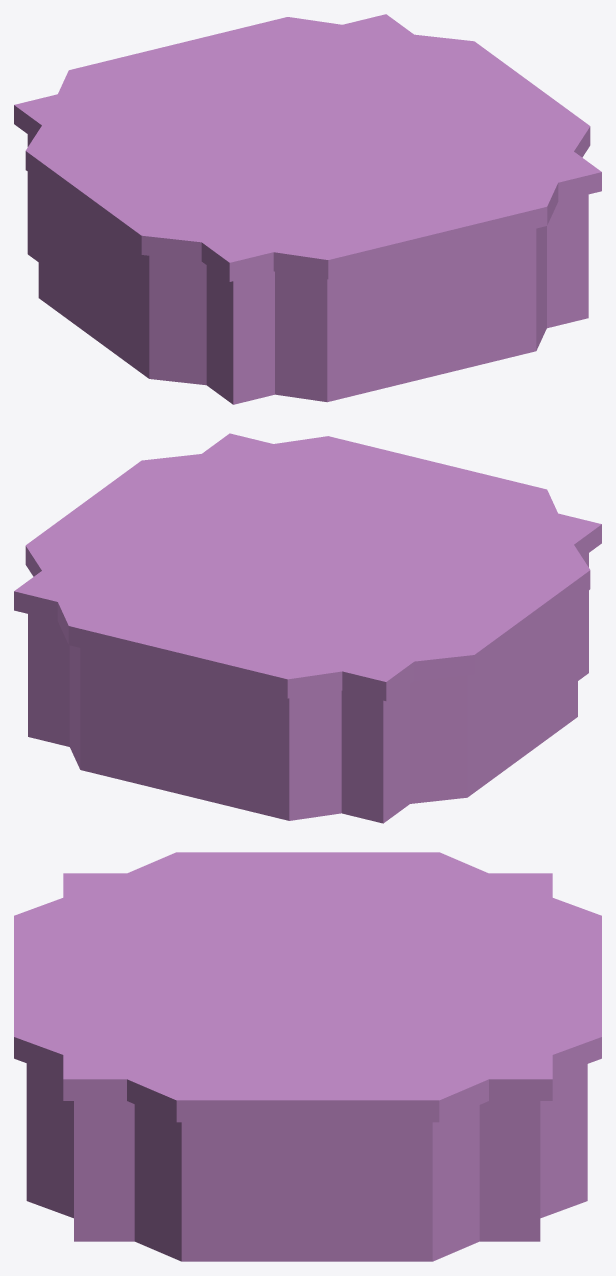
File: Tower_Base.fbx
3 views of the same model, one above another, from view 1: azimuth 30°, elevation 25°; view 2: azimuth 150°, elevation 25°; view 3: azimuth 270°, elevation 25° (orthographic). The views are drawn at different scales.
Visible parts, largest first — view 1: Tower_Base; view 2: Tower_Base; view 3: Tower_Base.
Part boxes in pixels (left/top/right/bottom): Tower_Base: left=14, top=14, right=601, bottom=404; Tower_Base: left=14, top=433, right=601, bottom=823; Tower_Base: left=14, top=852, right=601, bottom=1261.
Bounding box in the file's own units: 716 × 225 × 717.
